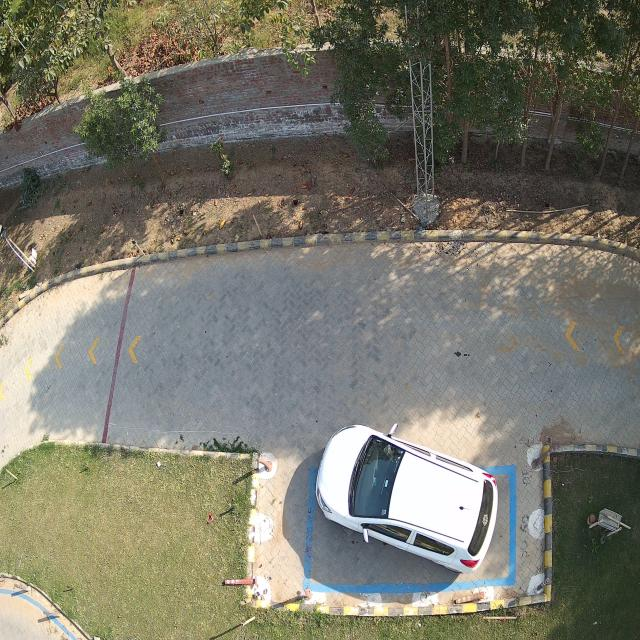car: (315, 425, 498, 573)
